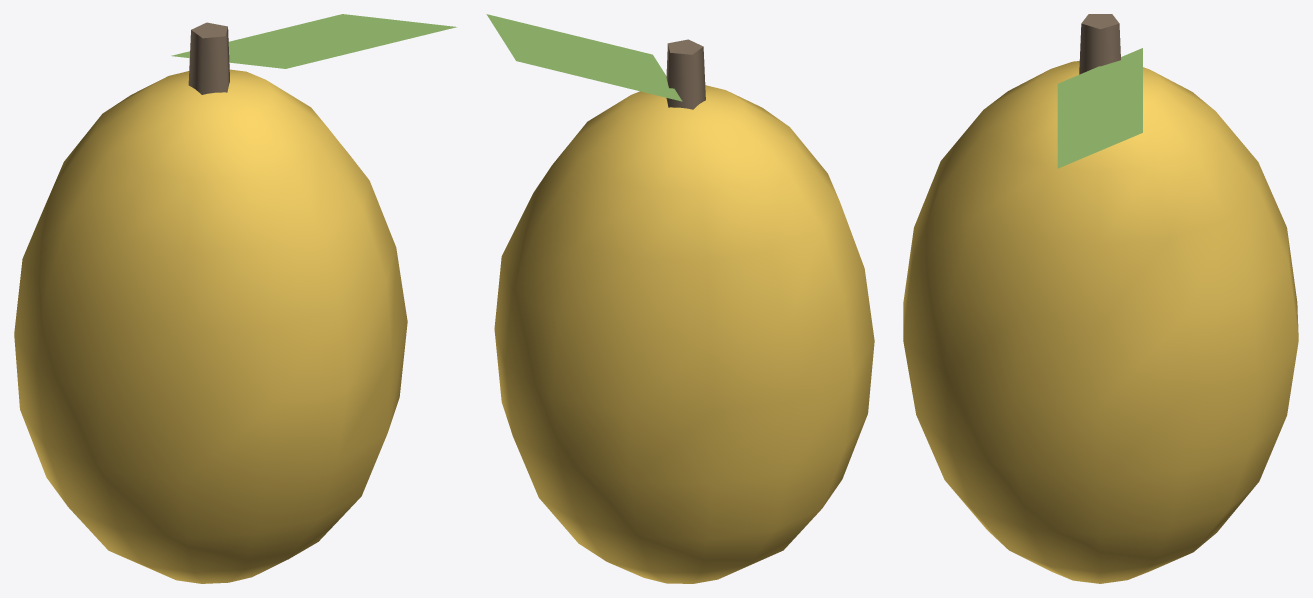
File: res_mango.glb
3 renders of one model, left to right at view 1: azimuth 30°, elevation 25°; view 2: azimuth 150°, elevation 25°; view 3: azimuth 270°, elevation 25°, orthographic. The views are drawn at different scales.
Visible parts, largest first — view 1: Mango; view 2: Mango; view 3: Mango.
Boxes of the visible parts, x1=… form: Mango: x1=14, y1=14, x2=456, y2=583; Mango: x1=486, y1=14, x2=874, y2=583; Mango: x1=903, y1=14, x2=1298, y2=583.
Size of the model in its own units: 0.2323 by 0.2991 by 0.1968.
